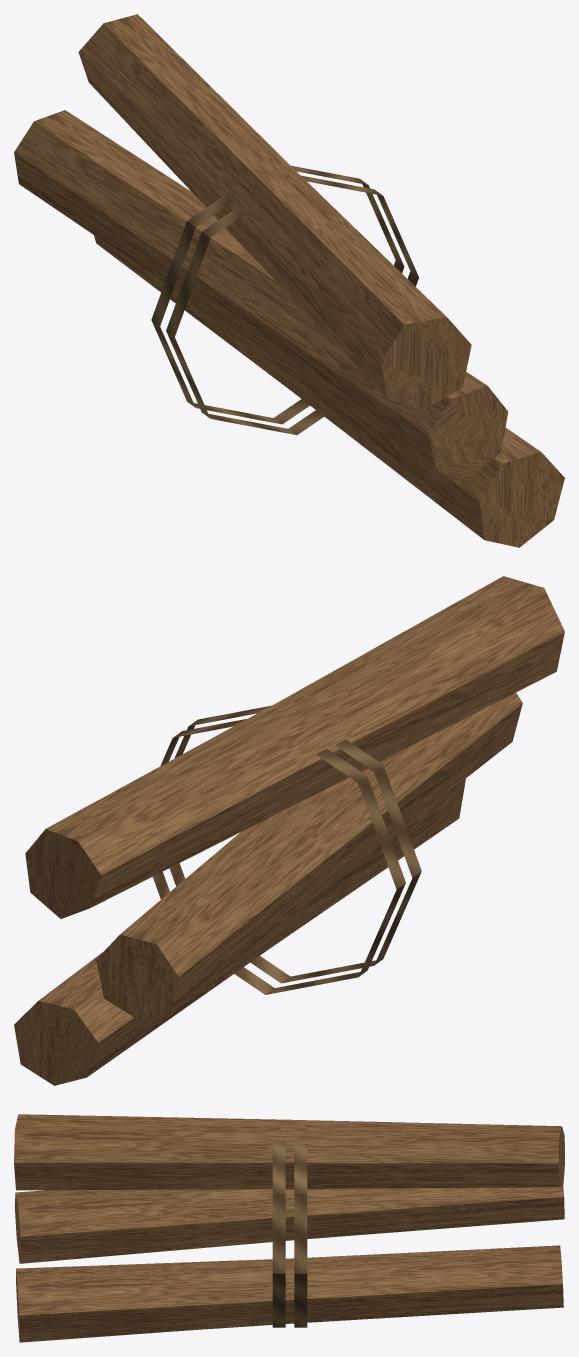
File: ITEM_Wood.fbx
3 views of the same model, one above another, from view 1: azimuth 30°, elevation 25°; view 2: azimuth 150°, elevation 25°; view 3: azimuth 270°, elevation 25° (orthographic). The views are drawn at different scales.
Visible parts, largest first — view 1: ITEM_Wood; view 2: ITEM_Wood; view 3: ITEM_Wood.
Part boxes in pixels (x1=…): ITEM_Wood: x1=14, y1=14, x2=564, y2=547; ITEM_Wood: x1=14, y1=576, x2=564, y2=1085; ITEM_Wood: x1=14, y1=1114, x2=564, y2=1342.
Bounding box in the file's own units: 0.192 × 0.2035 × 0.5066.
